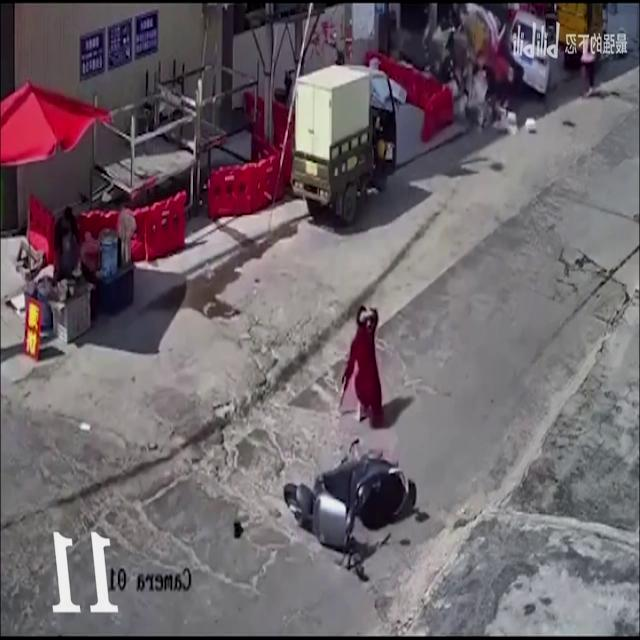accident: (232, 428, 430, 584)
non-accident: (206, 64, 398, 235)
